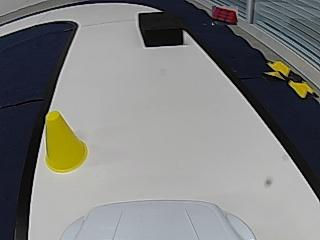block: (139, 12, 183, 47)
cone: (45, 111, 88, 172)
